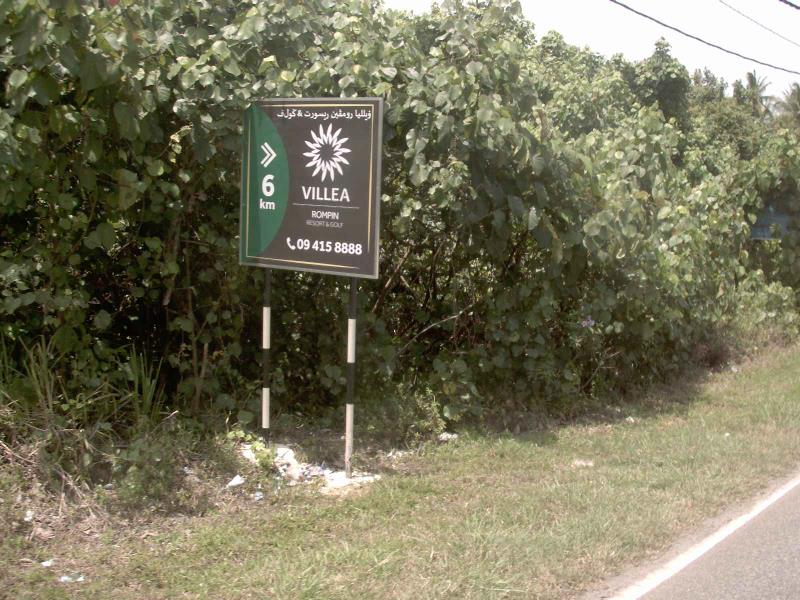ads_sign: (230, 81, 394, 289)
